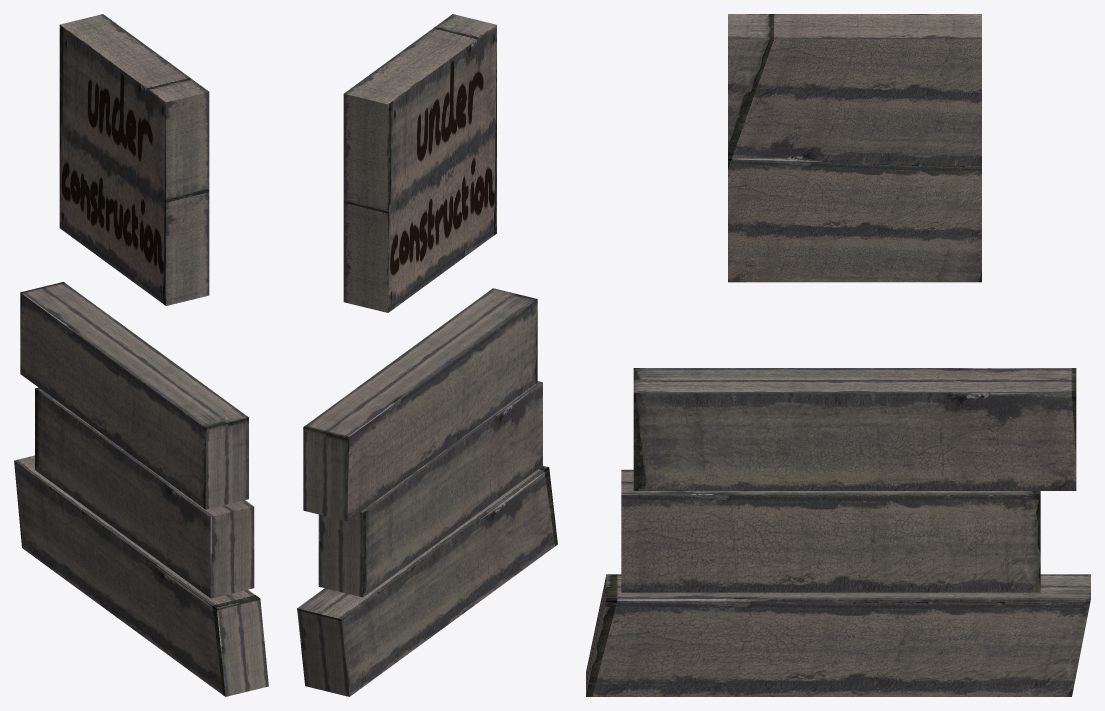
The model's file is Under Construction.FBX.
3 views of the same model, side by side, from view 1: azimuth 30°, elevation 25°; view 2: azimuth 150°, elevation 25°; view 3: azimuth 270°, elevation 25° (orthographic). The views are drawn at different scales.
Visible parts, largest first — view 1: Box003, Box001, Box004, Box002, Object001; view 2: Box003, Box001, Box004, Box002, Object001; view 3: Object001, Box003, Box001, Box002.
Boxes of the visible parts, <box> form: Box003: <box>20,282,248,509</box>; Box001: <box>14,455,268,696</box>; Box004: <box>59,25,165,305</box>; Box002: <box>35,387,254,598</box>; Object001: <box>60,14,209,305</box>; Box003: <box>303,288,537,521</box>; Box001: <box>297,465,557,696</box>; Box004: <box>388,25,496,312</box>; Box002: <box>318,381,542,597</box>; Object001: <box>343,14,496,312</box>; Object001: <box>728,14,981,282</box>; Box003: <box>633,368,1076,490</box>; Box001: <box>586,574,1090,696</box>; Box002: <box>621,469,1040,592</box>.
Size of the model in its own units: 2.01 by 24.42 by 16.99.
Materials: 2 (2 with a texture image).
